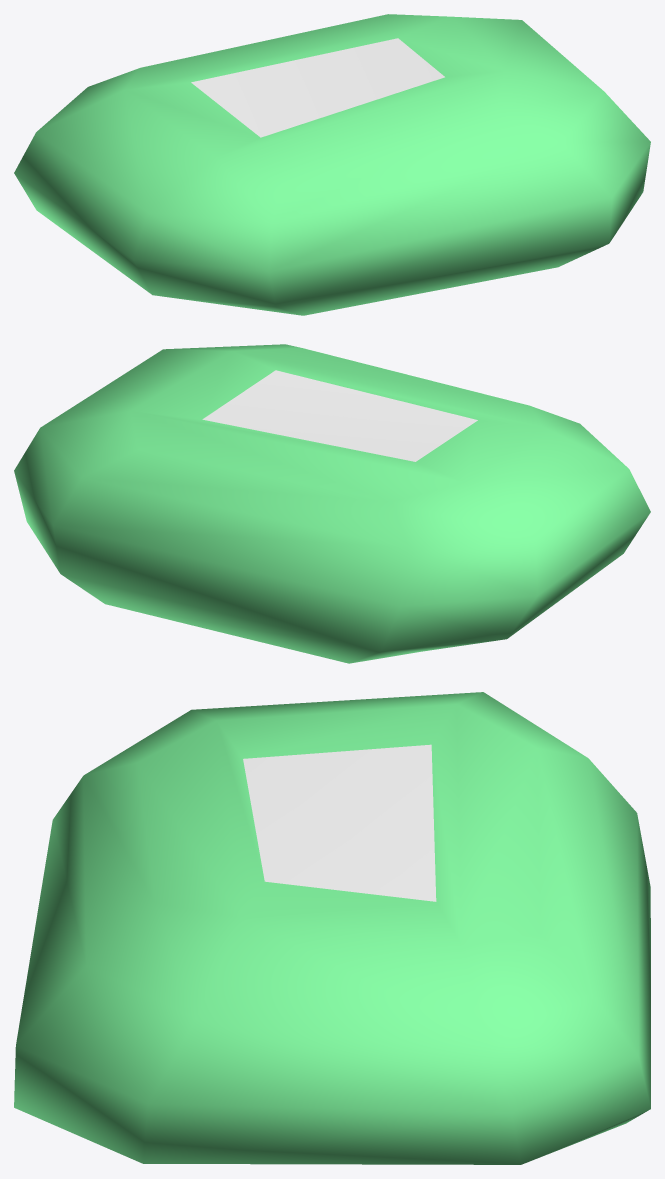
File: Props_Package_02.fbx
3 renders of one model, top to bottom at view 1: azimuth 30°, elevation 25°; view 2: azimuth 150°, elevation 25°; view 3: azimuth 270°, elevation 25°, orthographic. The views are drawn at different scales.
Visible parts, largest first — view 1: Props_Package_02; view 2: Props_Package_02; view 3: Props_Package_02.
Part boxes in pixels (x1,y1,x2,y2): Props_Package_02: (14, 14, 650, 315); Props_Package_02: (14, 344, 650, 663); Props_Package_02: (14, 692, 650, 1164).
Bounding box in the file's own units: 63.85 × 18.36 × 47.65.
